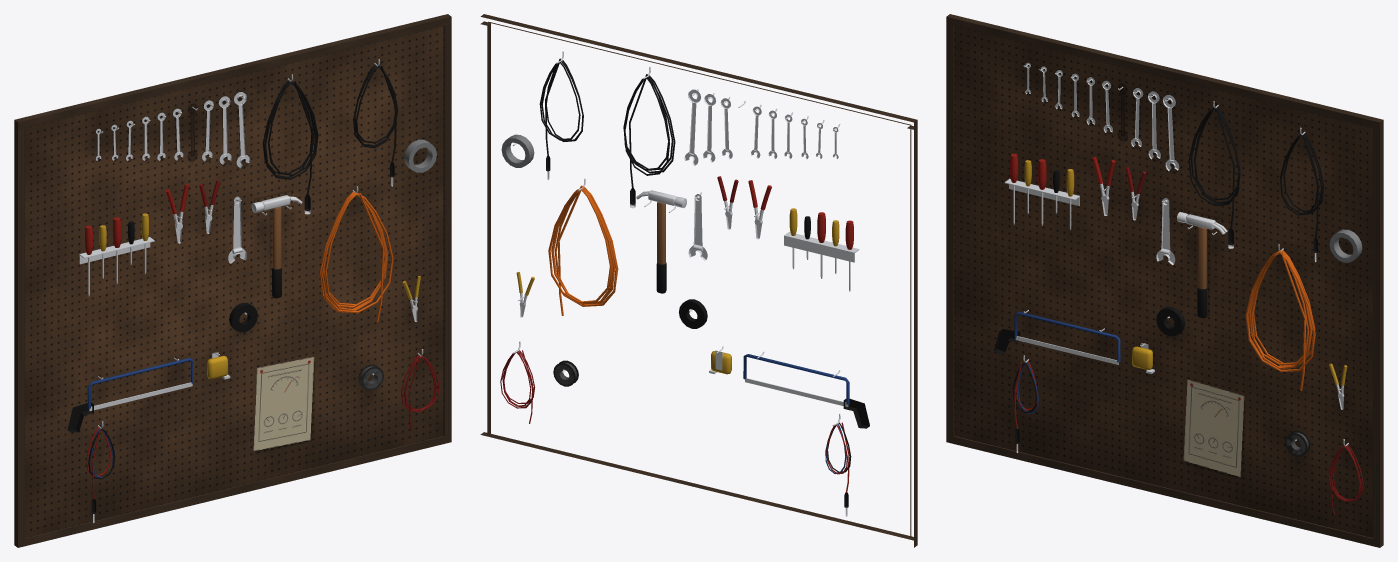
File: pegboard-cables.glb
The picture shows the model from 3 angles, left to right: view 1: azimuth 30°, elevation 25°; view 2: azimuth 150°, elevation 25°; view 3: azimuth 330°, elevation 25°; orthographic projection.
Visible parts, largest first — view 1: pegboard_E05; view 2: pegboard_E05; view 3: pegboard_E05.
Part boxes in pixels (bbox=[...]): pegboard_E05: bbox=[14, 14, 451, 547]; pegboard_E05: bbox=[480, 14, 917, 547]; pegboard_E05: bbox=[946, 14, 1383, 547].
Size of the model in its own units: 1.6 by 1.5 by 0.05.
Materials: 3 (2 with a texture image).
